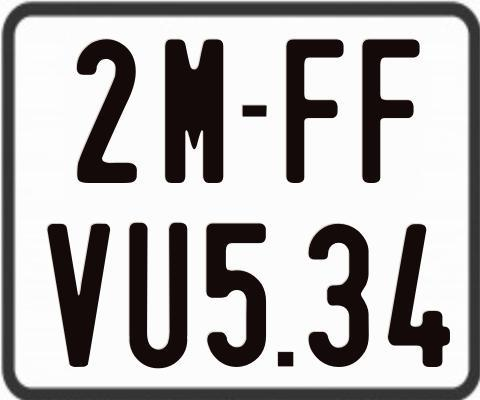2: (76, 38, 136, 182)
3: (309, 221, 370, 366)
4: (388, 223, 452, 371)
5: (206, 222, 272, 367)
F: (359, 36, 421, 181), (285, 38, 344, 187)
M: (163, 39, 227, 185)
U: (126, 221, 189, 370)
V: (45, 223, 112, 367)
